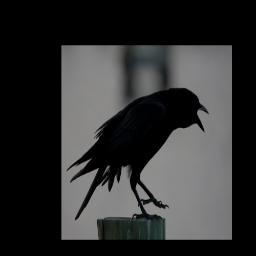Crow: (66, 87, 209, 222)
